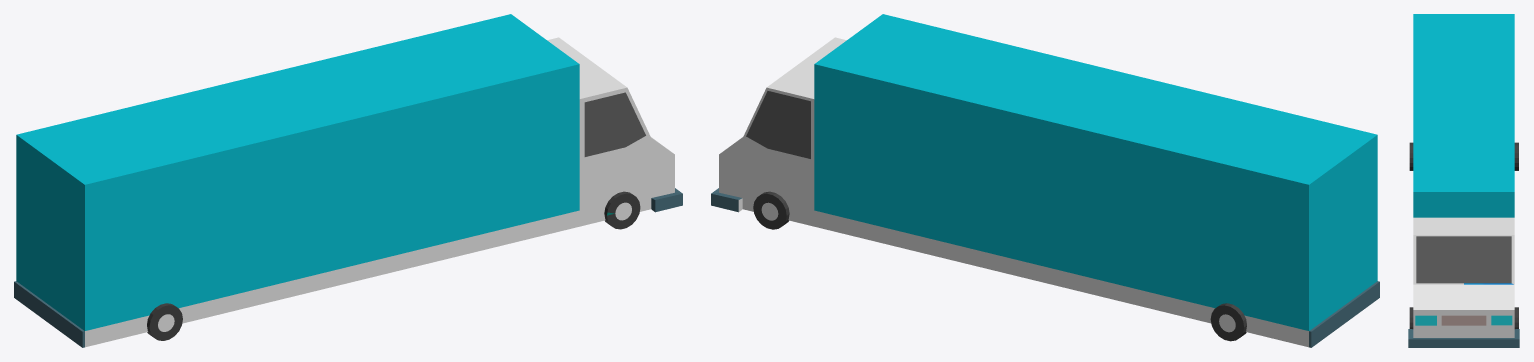
The model's file is Kamionce4x1Blue.fbx.
3 renders of one model, left to right at view 1: azimuth 30°, elevation 25°; view 2: azimuth 150°, elevation 25°; view 3: azimuth 270°, elevation 25°, orthographic. The views are drawn at different scales.
Parts seen in each view (by area): view 1: Car_08_4; view 2: Car_08_4; view 3: Car_08_4.
Part boxes in pixels (bbox=[...]): Car_08_4: bbox=[14, 14, 682, 347]; Car_08_4: bbox=[711, 14, 1379, 347]; Car_08_4: bbox=[1408, 14, 1519, 347].
Size of the model in its own units: 3.99 by 1.1 by 0.8755.
Materials: 1 (1 with a texture image).
